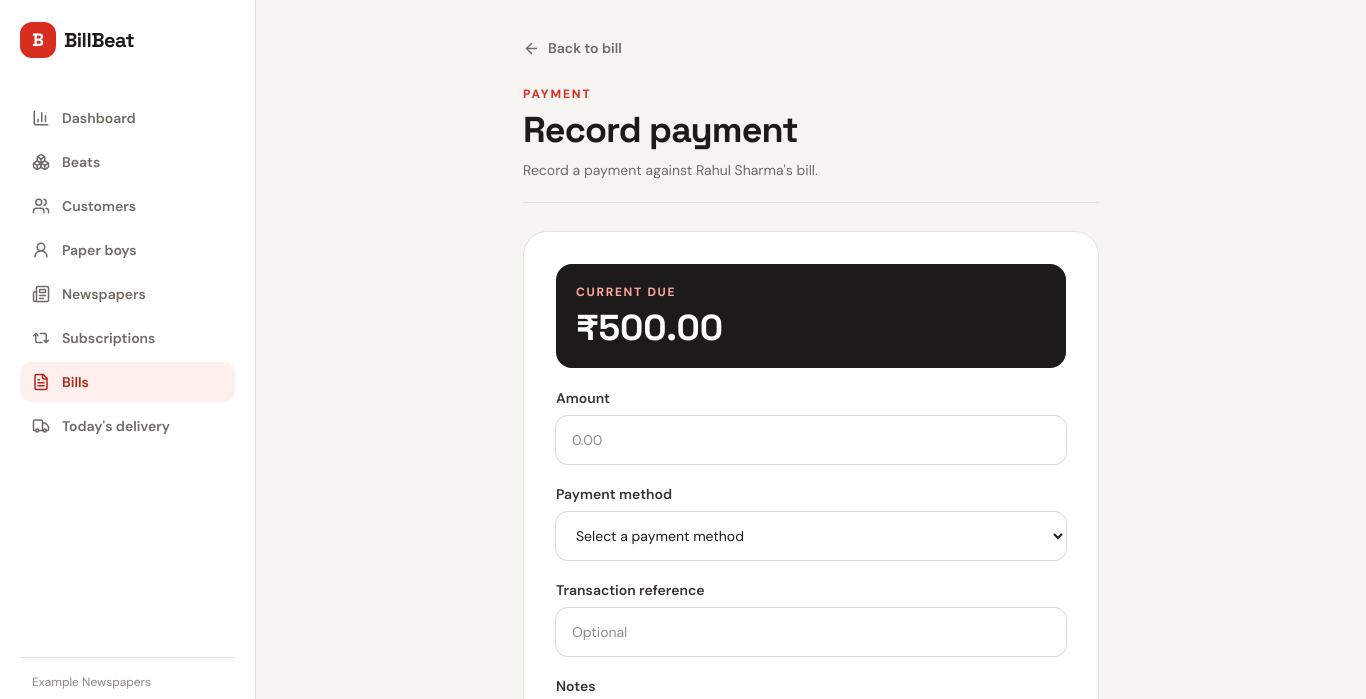
Scenario: bill payment integration › shows backend payment errors
Check: the text "₹500.00" is shown, box [576,305,723,351]
Type "200" into the number field labelled "Amount" at x=811, y=440, box [556,416,1066,464]
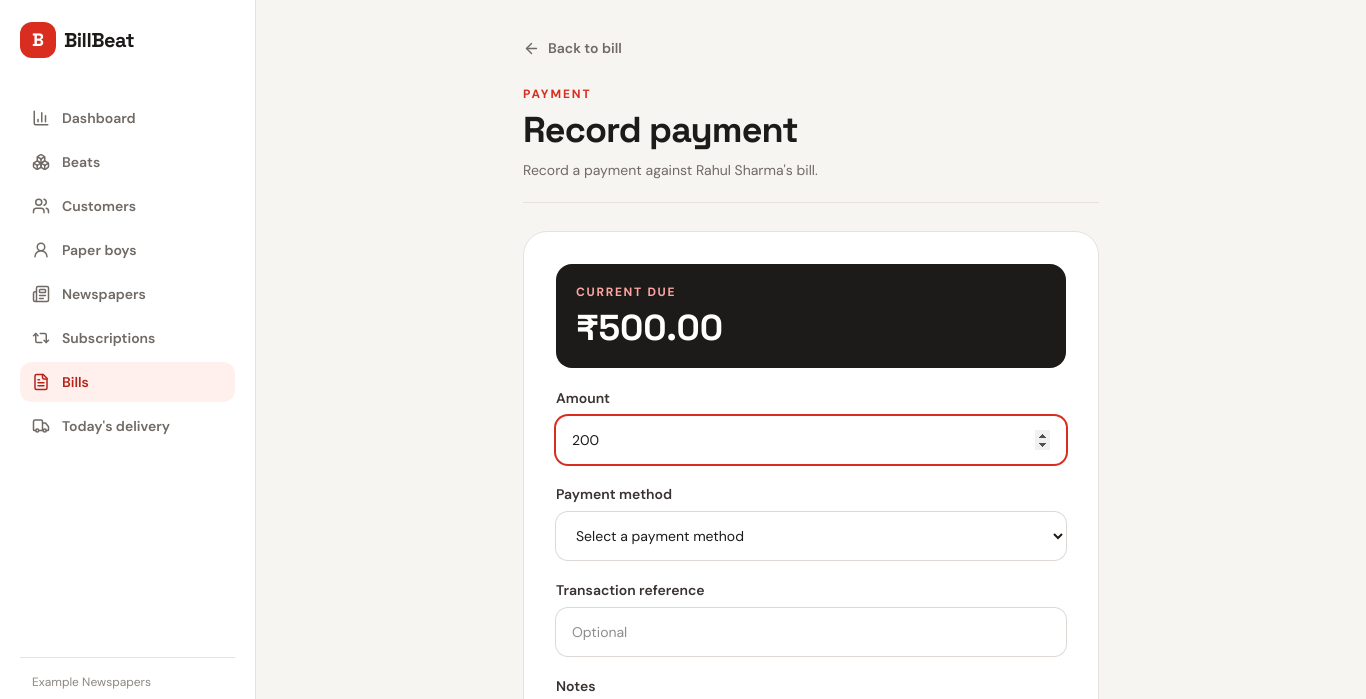
Select "Cash" in the dropdown labelled "Payment method" at x=811, y=536, box [556,512,1066,560]
(page scrolled)
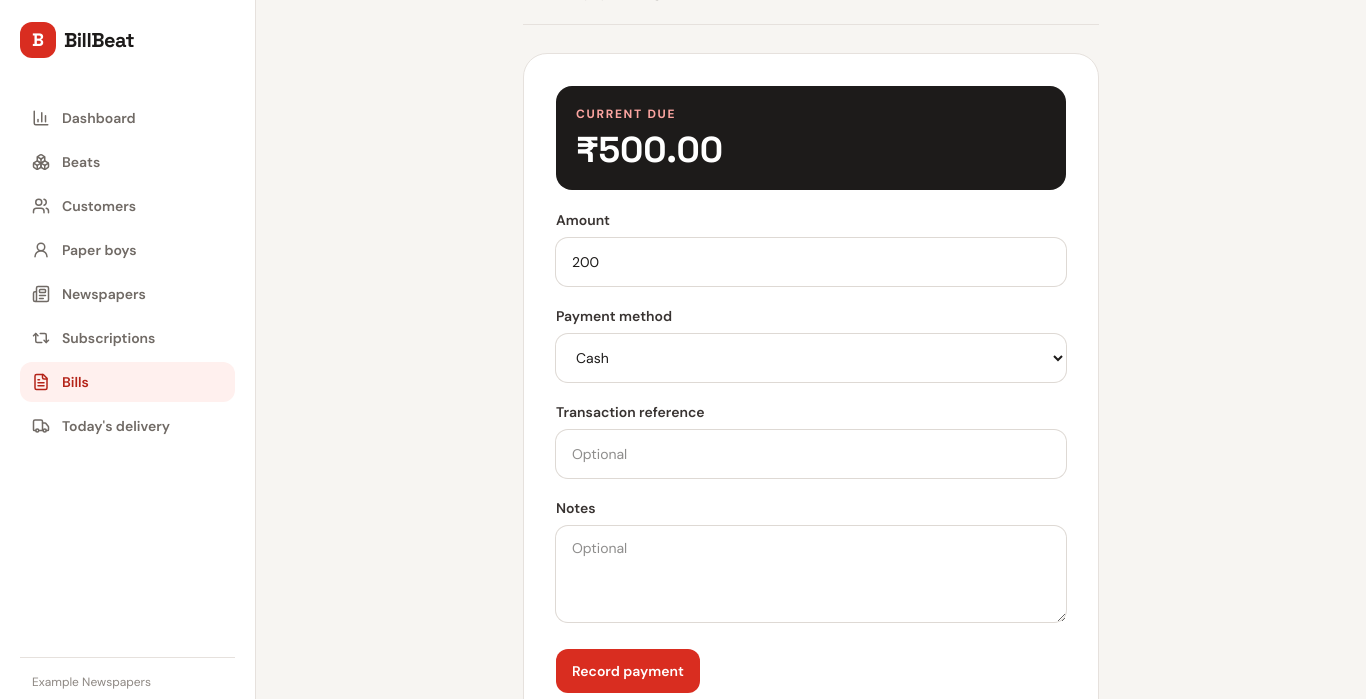
Click the button "Record payment" at x=628, y=671, box [556,649,700,693]
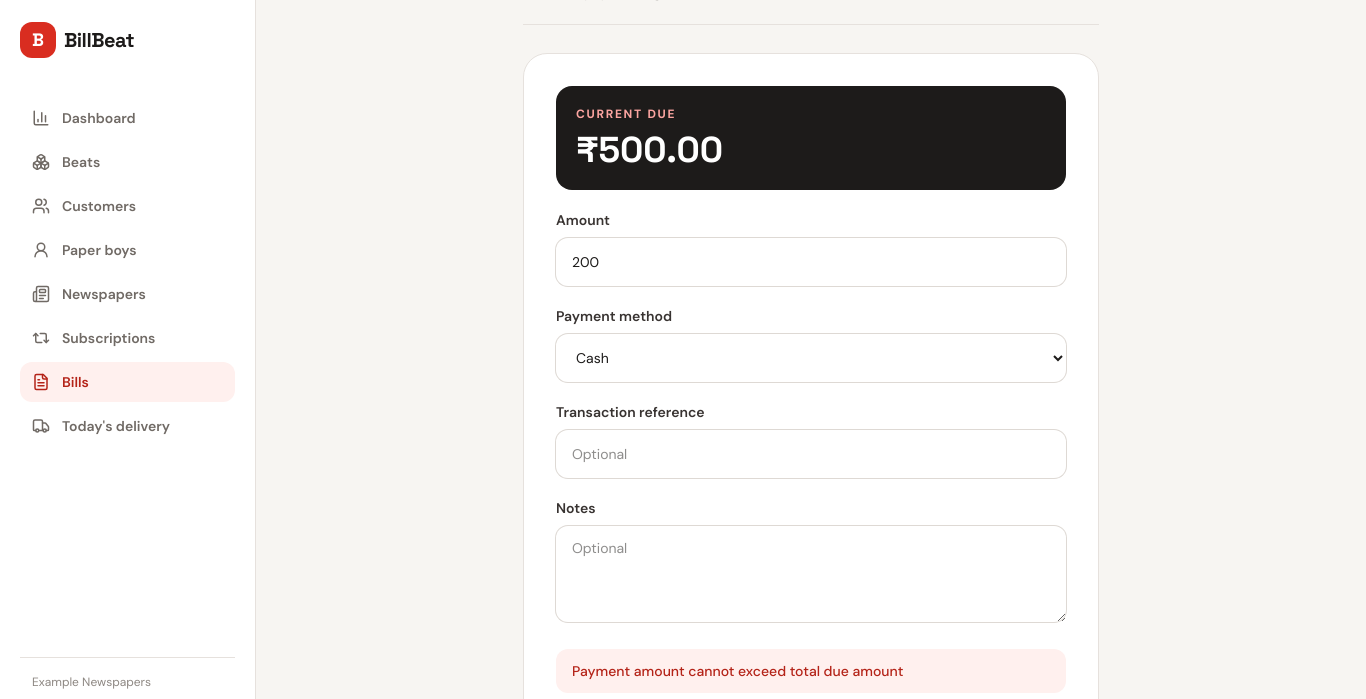
Check: the text "Payment amount cannot exceed total due amount" is shown, box [556,649,1066,693]
